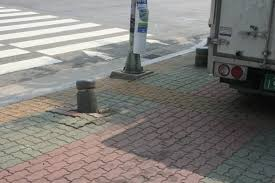guide_blocks: (2, 95, 61, 122)
